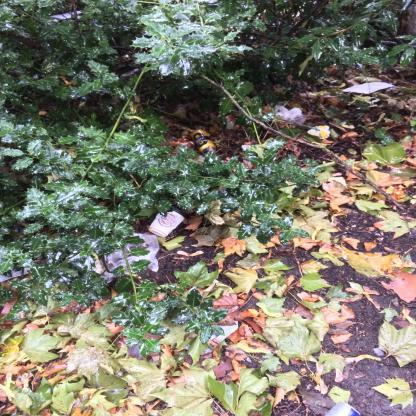karton: (150, 207, 188, 239)
metal: (193, 131, 218, 157)
